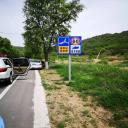speed_limit_60: (70, 37, 80, 45)
